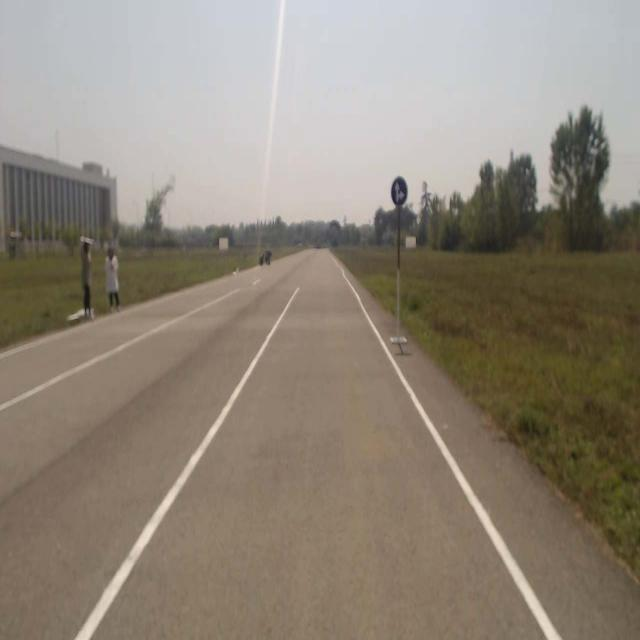ilerisag: (389, 175, 408, 208)
